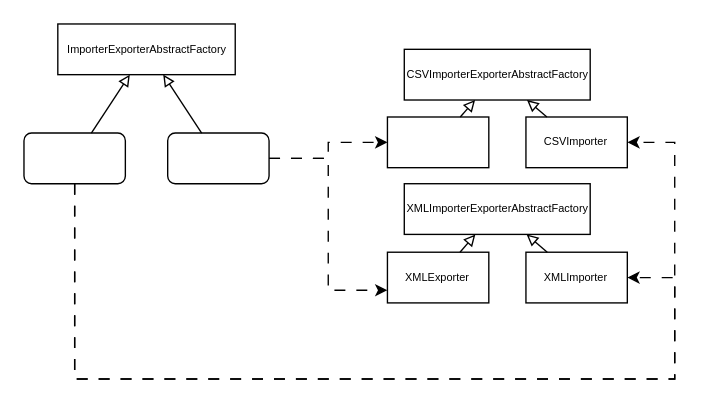
Image size: 710x415. Some labels were removed from this diagram. The shapes that lost their labels are listed below. From the top down, each one's box as (x1, y1, x2, y2) in pixels, then its label:
(23, 132, 125, 184): Table.Importer
(166, 132, 269, 184): Table.Exporter
(386, 116, 489, 168): CSVExporter
